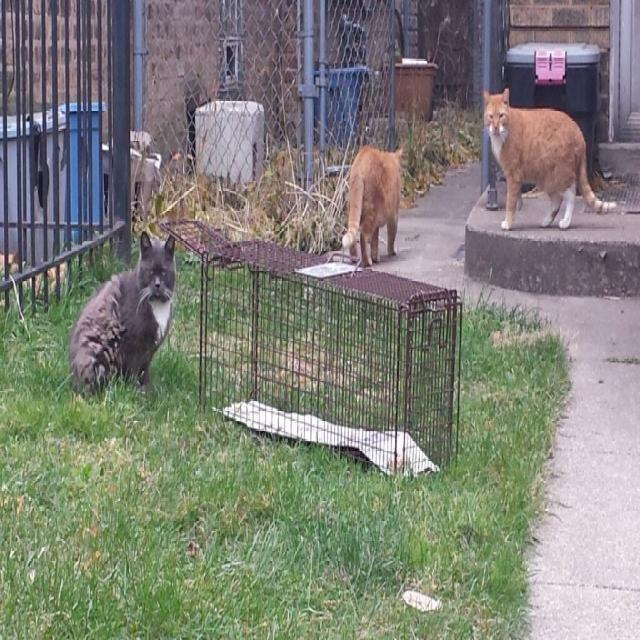cat: (70, 229, 180, 390), (484, 89, 610, 229), (342, 147, 401, 267)
